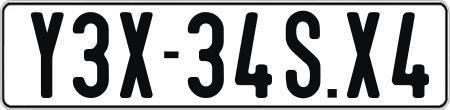3: (70, 10, 112, 102), (187, 10, 224, 99)
4: (234, 11, 276, 100), (392, 10, 430, 102)
S: (283, 11, 323, 104)
X: (344, 11, 383, 99), (120, 9, 154, 101)
Y: (28, 12, 66, 102)
